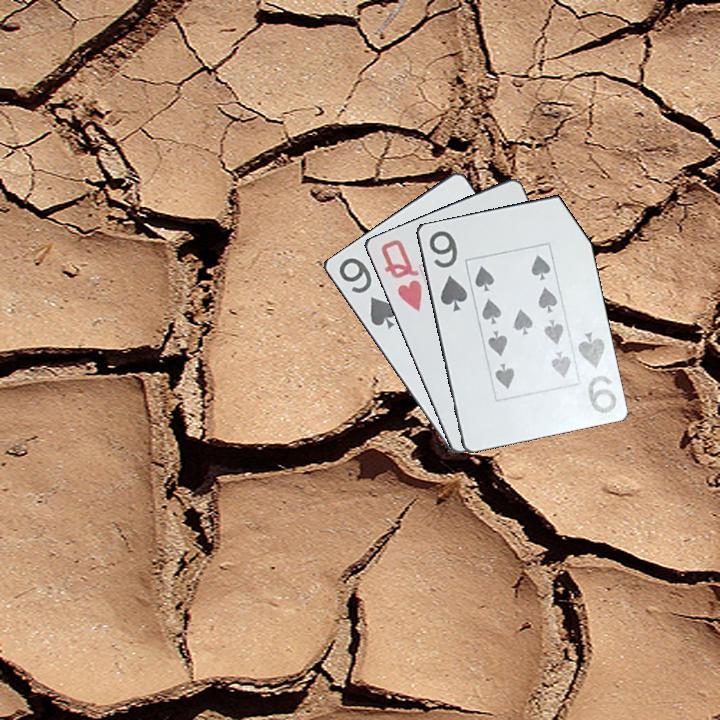9s: (335, 254, 399, 332), (572, 328, 619, 416), (425, 227, 470, 314)
Qh: (374, 234, 425, 314)
